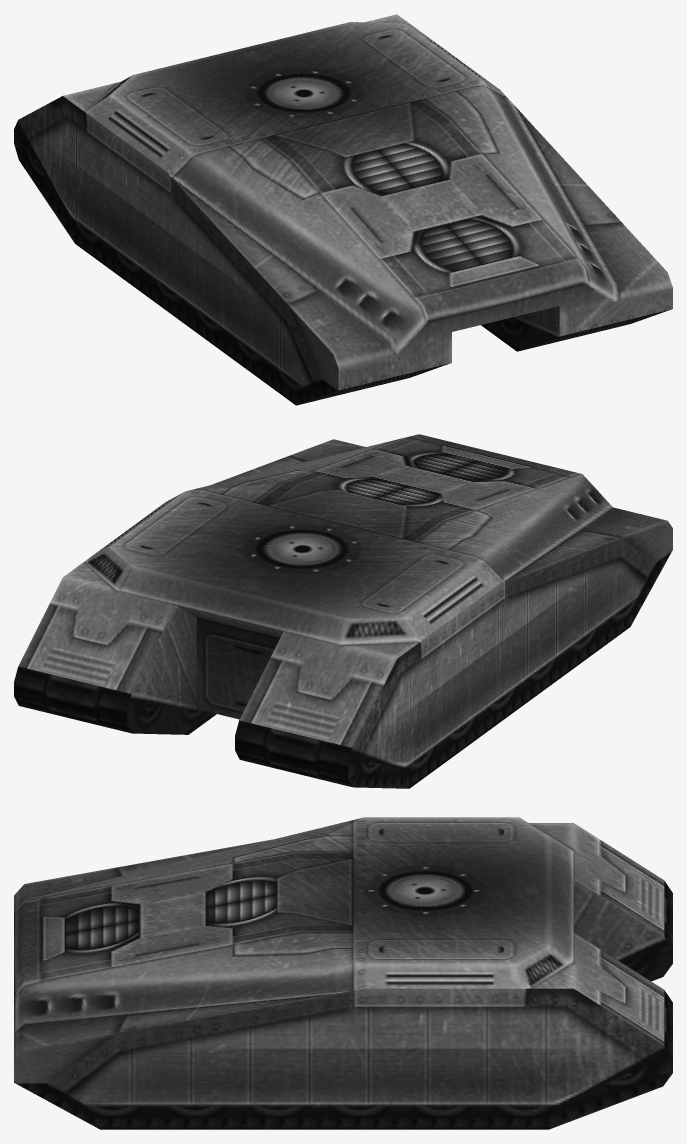
File: mammoth.glb
3 views of the same model, one above another, from view 1: azimuth 30°, elevation 25°; view 2: azimuth 150°, elevation 25°; view 3: azimuth 270°, elevation 25° (orthographic).
Parts seen in each view (by area): view 1: hull; view 2: hull; view 3: hull.
Boxes of the visible parts, x1,y1,x2,y2 form: hull: [14, 14, 672, 405]; hull: [14, 434, 672, 788]; hull: [14, 817, 672, 1129].
Size of the model in its own units: 370 by 163 by 622.
Materials: 1 (1 with a texture image).
